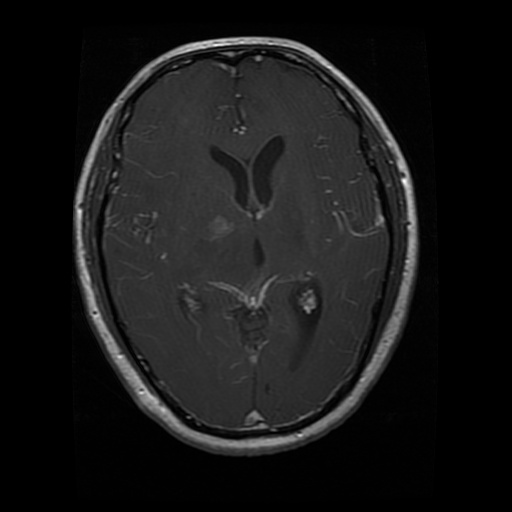glioma: (197, 213, 234, 242)
